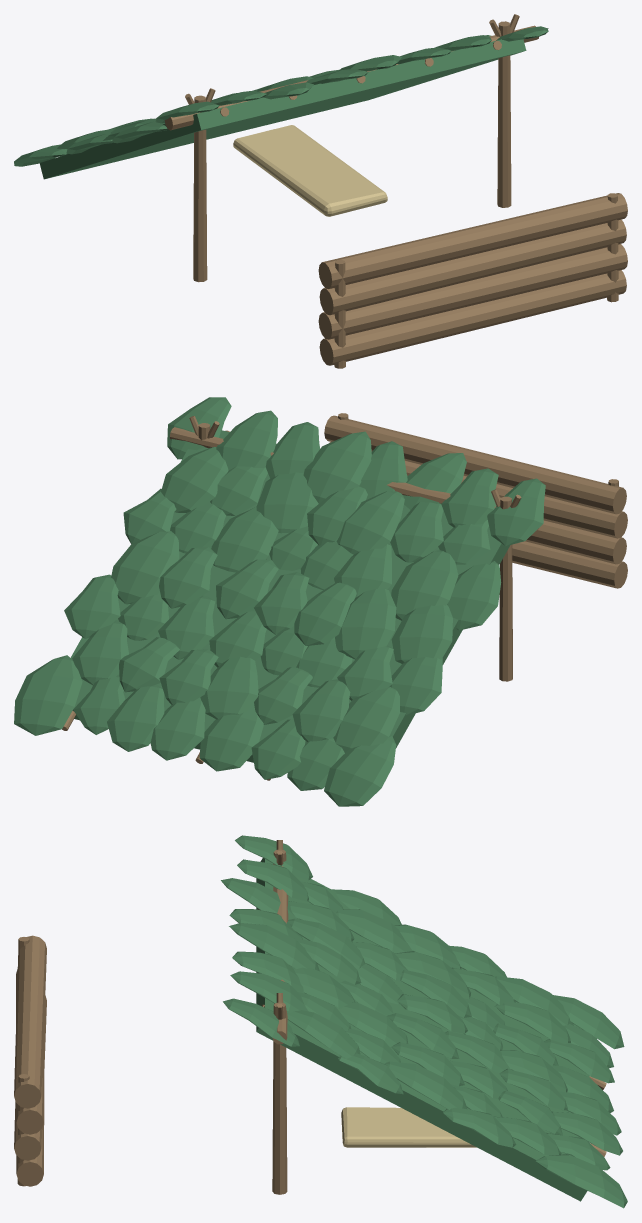
Rendered from LeanTo.glb.
3 renders of one model, top to bottom at view 1: azimuth 30°, elevation 25°; view 2: azimuth 150°, elevation 25°; view 3: azimuth 270°, elevation 25°, orthographic. The views are drawn at different scales.
Parts seen in each view (by area): view 1: s4_5__reflector, s2_5__roofmat, s3_5__grass, s2_5__thatch, s1_5__posts, s1_5__ridge; view 2: s2_5__thatch, s4_5__reflector, s2_5__roofmat, s1_5__posts, s1_5__ridge; view 3: s2_5__thatch, s2_5__roofmat, s4_5__reflector, s3_5__grass, s1_5__posts, s1_5__ridge.
Part boxes in pixels (x1,y1,x2,y2): s4_5__reflector: [318, 193, 627, 368]; s2_5__roofmat: [39, 39, 526, 179]; s3_5__grass: [233, 125, 387, 216]; s2_5__thatch: [14, 26, 548, 166]; s1_5__posts: [185, 14, 519, 282]; s1_5__ridge: [164, 25, 538, 130]; s2_5__thatch: [14, 397, 545, 806]; s4_5__reflector: [324, 413, 627, 588]; s2_5__roofmat: [70, 430, 510, 762]; s1_5__posts: [189, 416, 521, 681]; s1_5__ridge: [169, 427, 538, 530]; s2_5__thatch: [221, 835, 627, 1208]; s2_5__roofmat: [256, 858, 589, 1201]; s4_5__reflector: [14, 935, 46, 1186]; s3_5__grass: [341, 1107, 476, 1147]; s1_5__posts: [272, 840, 287, 1194]; s1_5__ridge: [272, 864, 288, 1044].
Size of the model in its own units: 3.68 by 1.82 by 4.92.
